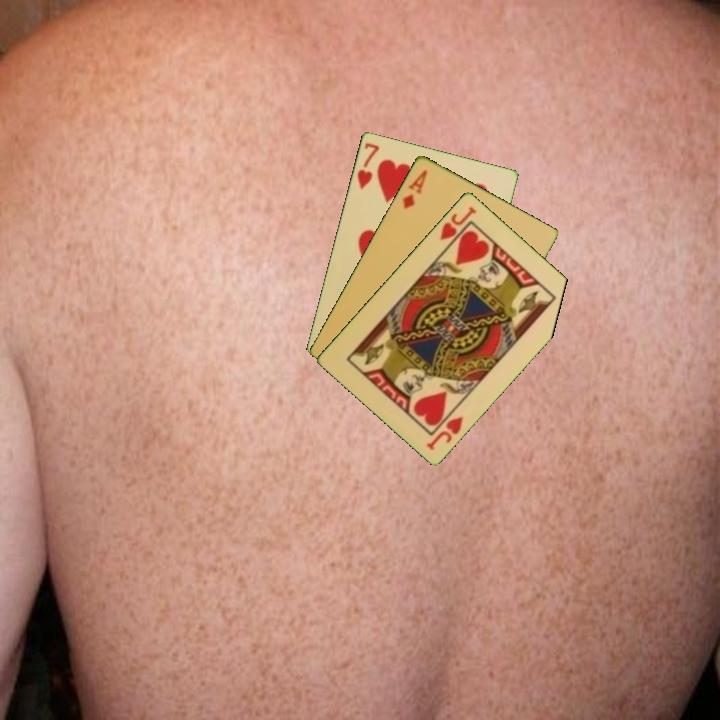7h: (353, 139, 382, 192)
Ad: (398, 166, 430, 211)
Jh: (436, 202, 479, 243), (423, 412, 466, 452)
